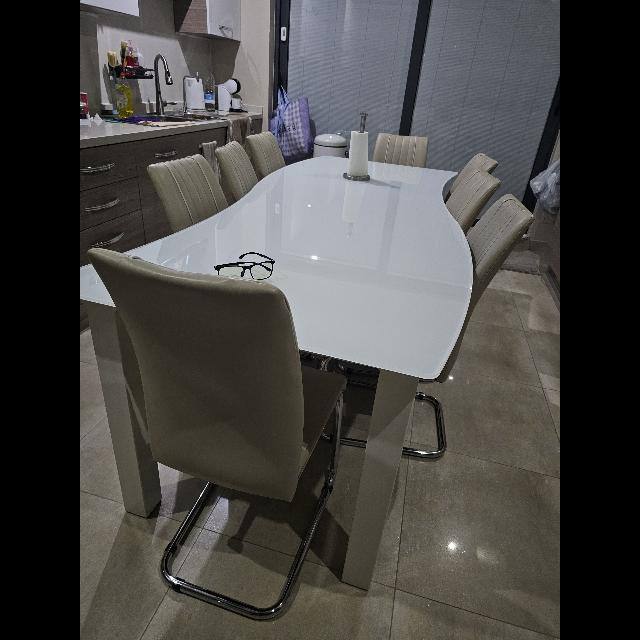glasses: (213, 252, 274, 280)
